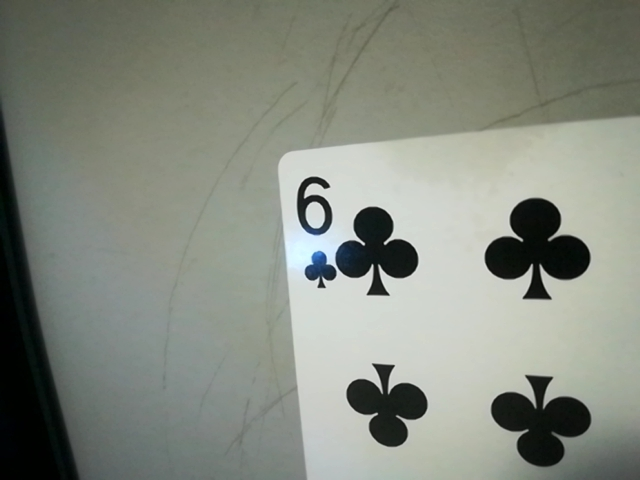mh 6: (285, 165, 344, 293)
